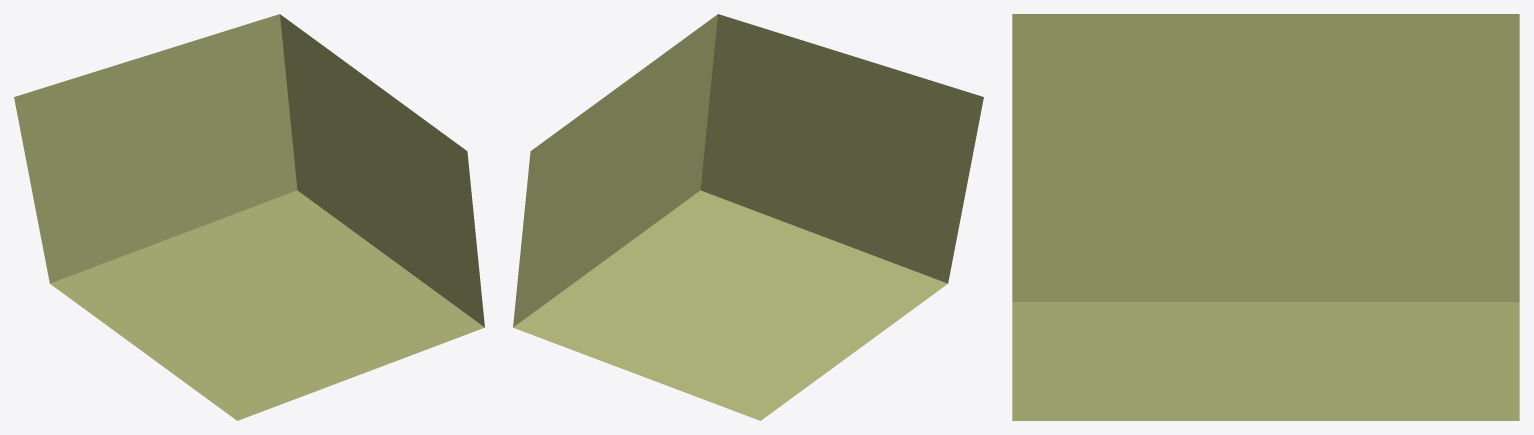
The picture shows the model from 3 angles, left to right: view 1: azimuth 30°, elevation 25°; view 2: azimuth 150°, elevation 25°; view 3: azimuth 270°, elevation 25°; orthographic projection. The views are drawn at different scales.
Visible parts, largest first — view 1: 0_1_1_3_3_1_3_0_1_2_0; view 2: 0_1_1_3_3_1_3_0_1_2_0; view 3: 0_1_1_3_3_1_3_0_1_2_0.
Boxes of the visible parts, x1,y1,x2,y2 form: 0_1_1_3_3_1_3_0_1_2_0: (14, 14, 484, 420); 0_1_1_3_3_1_3_0_1_2_0: (513, 14, 983, 420); 0_1_1_3_3_1_3_0_1_2_0: (1012, 14, 1519, 420).
Bounding box in the file's own units: 7.85 × 5.65 × 9.
